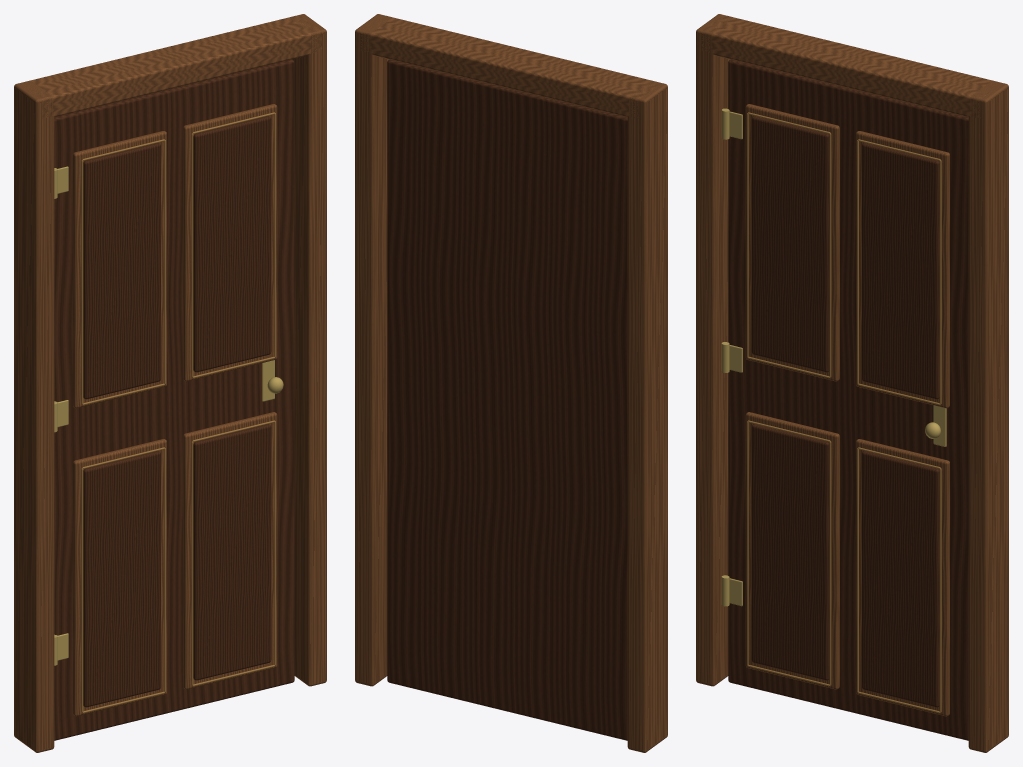
The model's file is hinged-door.glb.
3 renders of one model, left to right at view 1: azimuth 30°, elevation 25°; view 2: azimuth 150°, elevation 25°; view 3: azimuth 330°, elevation 25°, orthographic.
Visible parts, largest first — view 1: articulation, hinged-door; view 2: articulation, hinged-door; view 3: articulation, hinged-door.
Part boxes in pixels (x1,y1,x2,y2): articulation: [54, 59, 294, 740]; hinged-door: [14, 14, 326, 752]; articulation: [387, 59, 627, 740]; hinged-door: [355, 14, 667, 752]; articulation: [721, 59, 968, 740]; hinged-door: [696, 14, 1008, 752].
Size of the model in its own units: 0.98 by 2.1 by 0.16.
4 materials, 2 textured.
